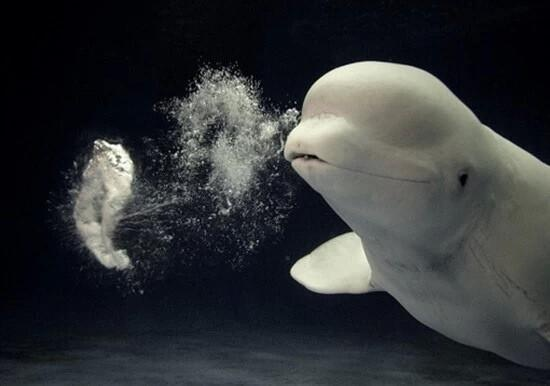fish: (277, 58, 550, 371)
